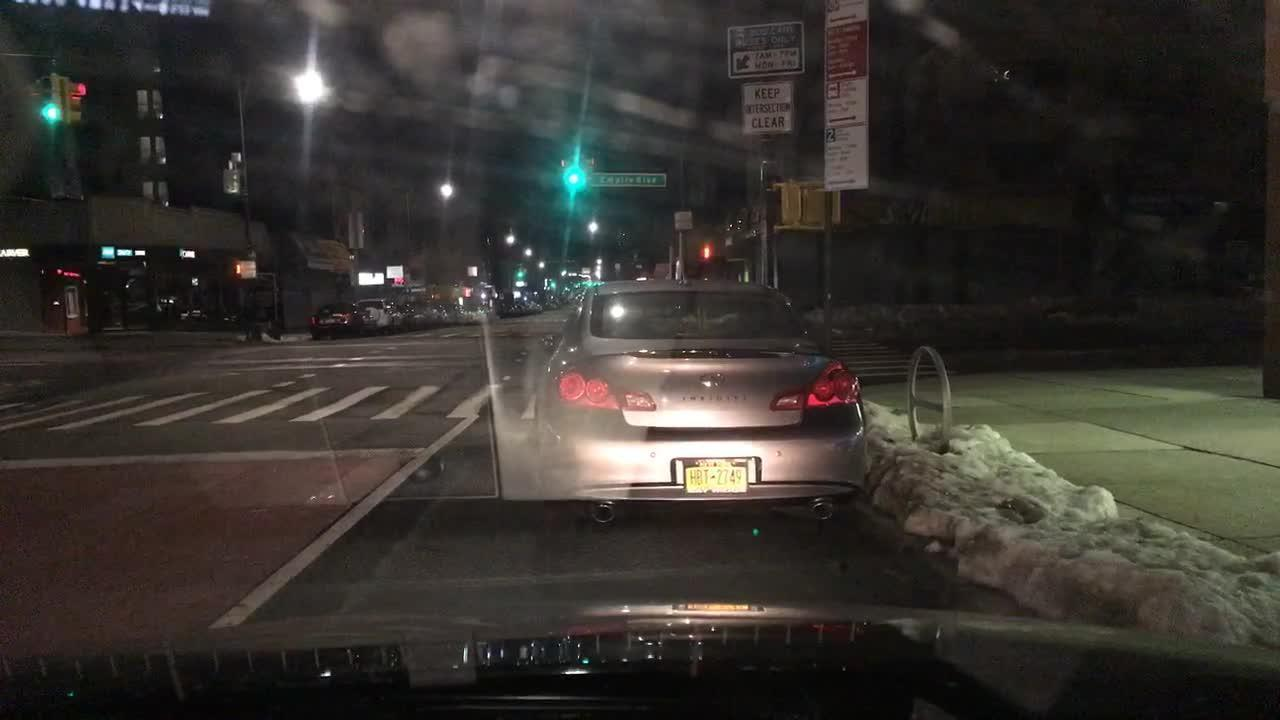Infiniti: (694, 366, 734, 393)
